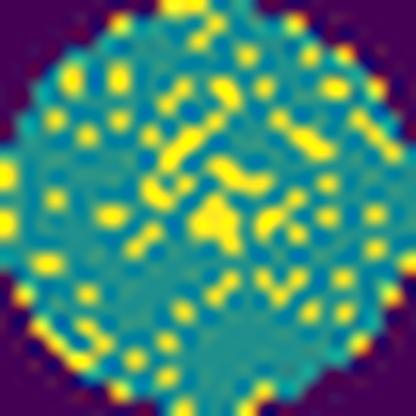Center: (184, 150, 274, 252)
